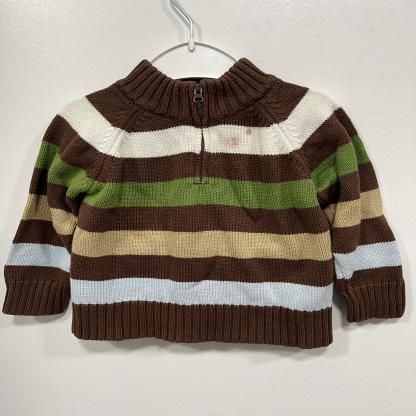stain: (221, 135, 244, 152), (243, 124, 254, 137)
